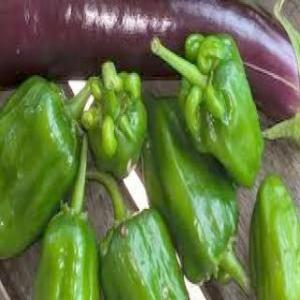bell_pepper: (152, 31, 266, 189), (82, 60, 150, 180)
